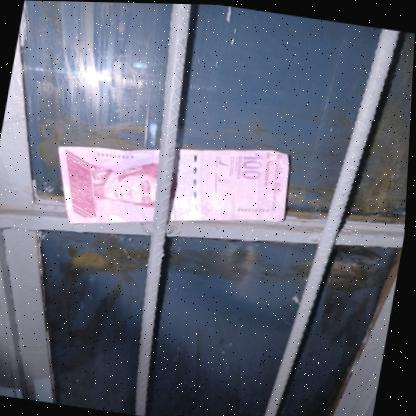one_hundred-front-vef: (45, 119, 299, 253)
